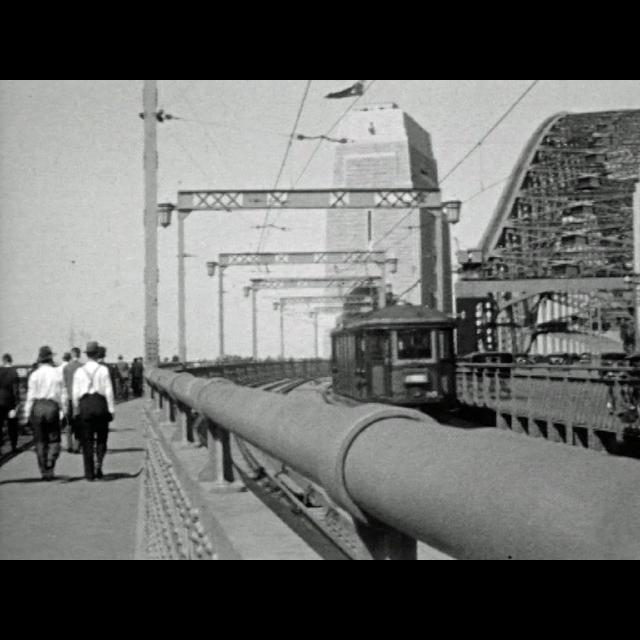head: (40, 346, 54, 364), (86, 344, 100, 360), (94, 346, 106, 358), (70, 348, 80, 360), (62, 353, 72, 363), (3, 354, 13, 364), (118, 356, 124, 360), (135, 358, 139, 364)
person: (70, 340, 118, 482), (24, 344, 72, 484), (82, 343, 118, 455), (62, 346, 96, 456), (49, 352, 81, 436), (0, 353, 24, 455), (115, 354, 133, 400), (130, 358, 140, 392)
